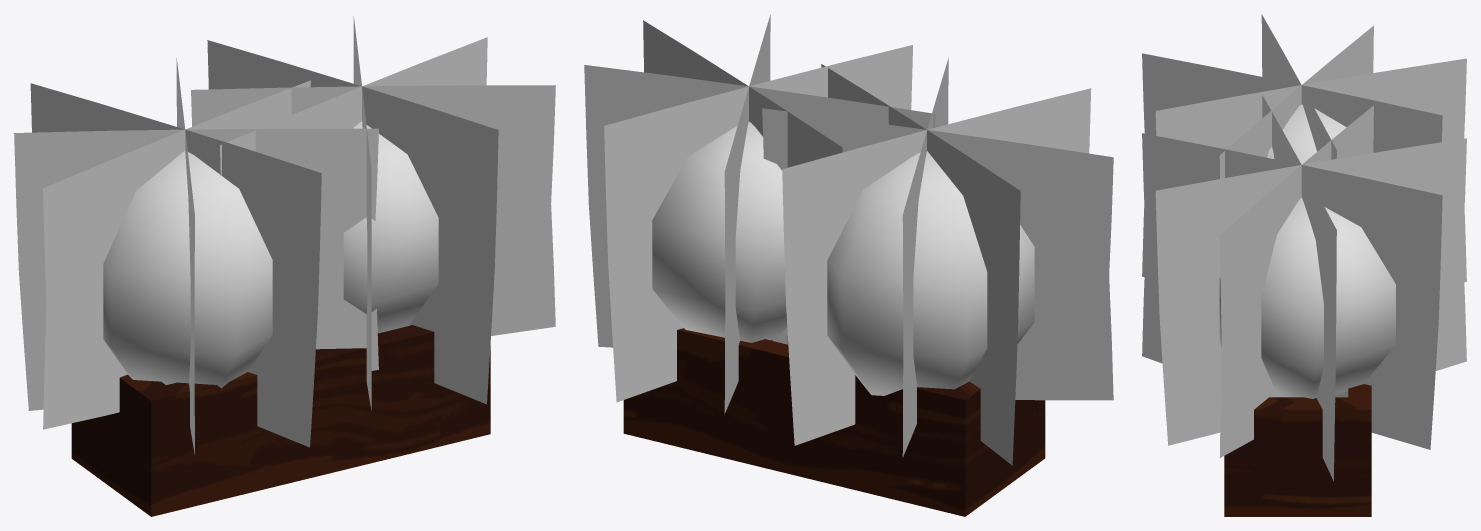
File: SM_PROP_PLANT_pot_v5_01.fbx
3 views of the same model, side by side, from view 1: azimuth 30°, elevation 25°; view 2: azimuth 150°, elevation 25°; view 3: azimuth 270°, elevation 25° (orthographic). The views are drawn at different scales.
Visible parts, largest first — view 1: SM_PROP_PLANT_pot_v5_01; view 2: SM_PROP_PLANT_pot_v5_01; view 3: SM_PROP_PLANT_pot_v5_01.
Boxes of the visible parts, box(x1,y1,x2,y2) form: SM_PROP_PLANT_pot_v5_01: box(14, 16, 555, 516); SM_PROP_PLANT_pot_v5_01: box(584, 14, 1113, 516); SM_PROP_PLANT_pot_v5_01: box(1142, 14, 1466, 516).
Size of the model in its own units: 126 by 83.07 by 78.1.
